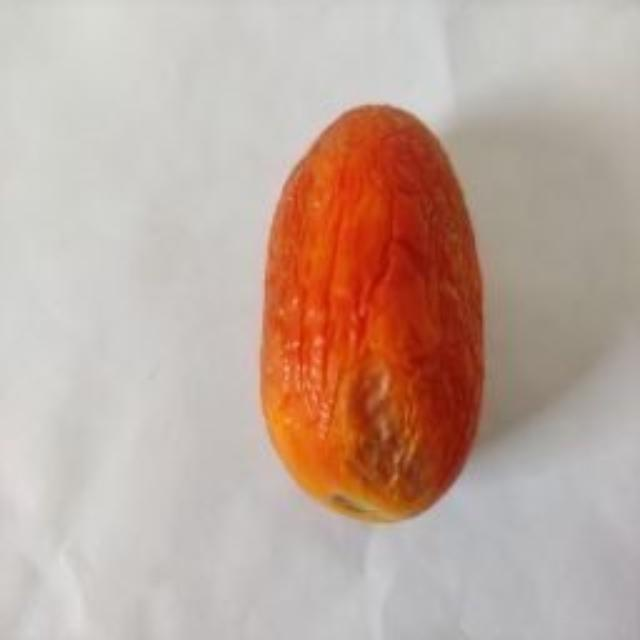defect: (256, 102, 489, 530)
